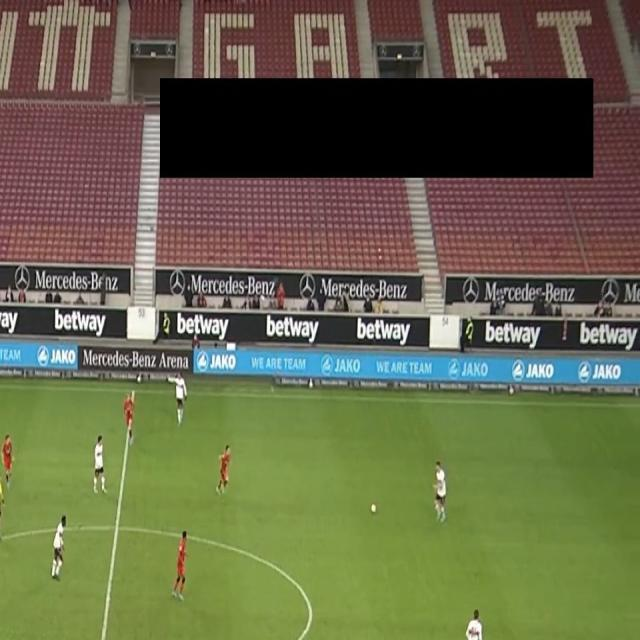ball: (370, 501, 378, 515)
